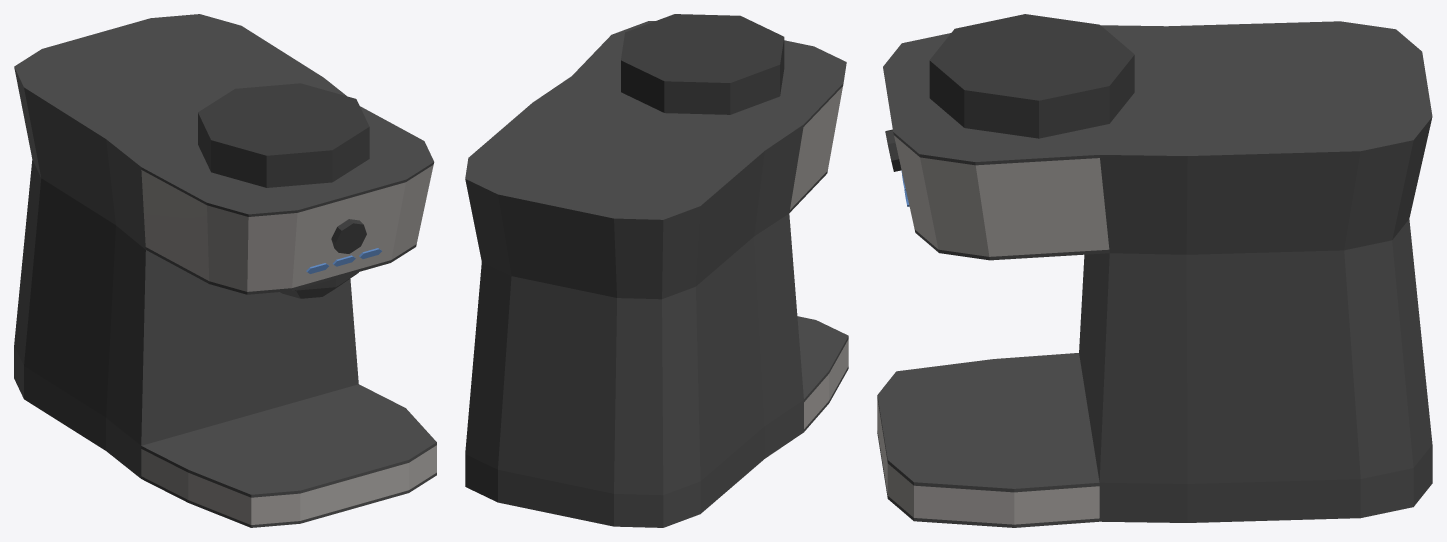
Rendered from Kitchen_2_CoffeeMachine_231109.glb.
3 renders of one model, left to right at view 1: azimuth 30°, elevation 25°; view 2: azimuth 150°, elevation 25°; view 3: azimuth 270°, elevation 25°, orthographic. The views are drawn at different scales.
Parts seen in each view (by area): view 1: Kitchen_2_CoffeeMachine; view 2: Kitchen_2_CoffeeMachine; view 3: Kitchen_2_CoffeeMachine.
Boxes of the visible parts, x1,y1,x2,y2 form: Kitchen_2_CoffeeMachine: (14, 14, 436, 527); Kitchen_2_CoffeeMachine: (465, 14, 848, 527); Kitchen_2_CoffeeMachine: (877, 14, 1432, 527).
Size of the model in its own units: 0.4077 by 0.5465 by 0.679.
1 material, 1 textured.
